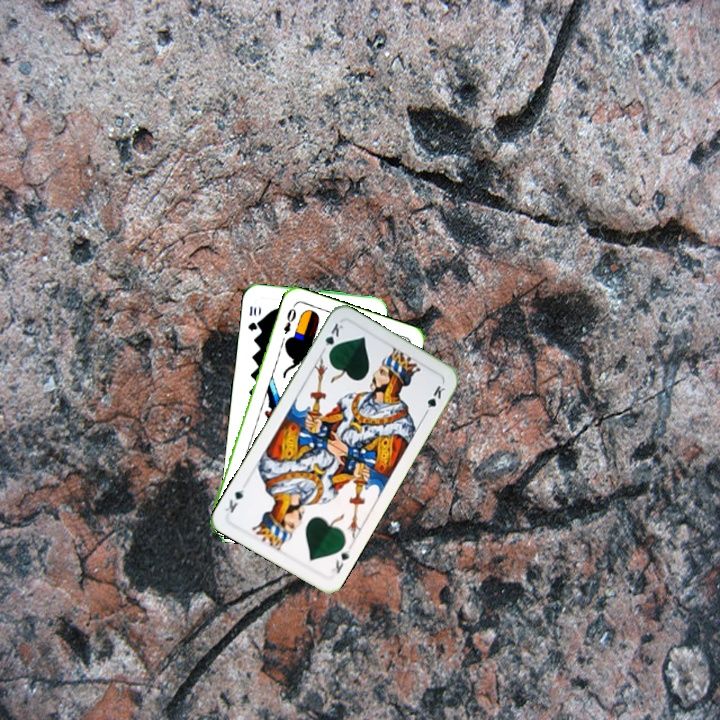EO: (279, 301, 299, 337)
G10: (244, 302, 260, 333)
GK: (318, 319, 346, 358), (327, 545, 353, 576)
